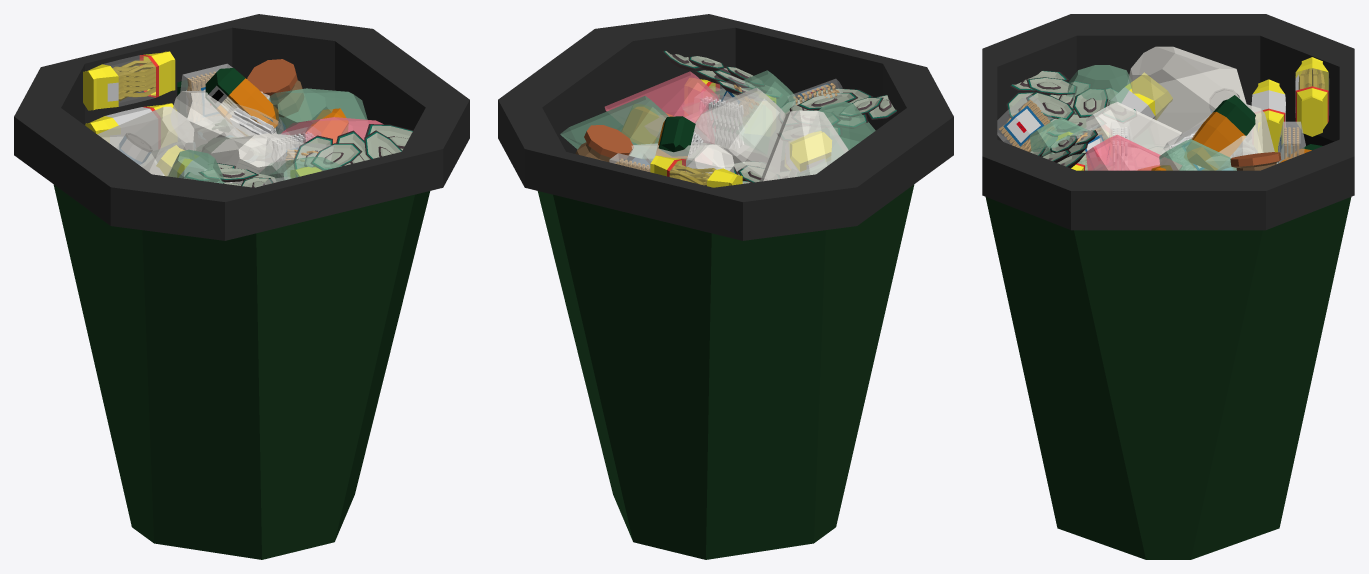
File: trash bin.fbx
The picture shows the model from 3 angles, left to right: view 1: azimuth 30°, elevation 25°; view 2: azimuth 150°, elevation 25°; view 3: azimuth 270°, elevation 25°; orthographic projection.
Parts seen in each view (by area): view 1: Cube; view 2: Cube; view 3: Cube.
Boxes of the visible parts, box(x1,y1,x2,y2) form: Cube: box(14, 14, 469, 559); Cube: box(498, 14, 953, 559); Cube: box(982, 14, 1354, 559).
Bounding box in the file's own units: 324 × 288 × 363.
